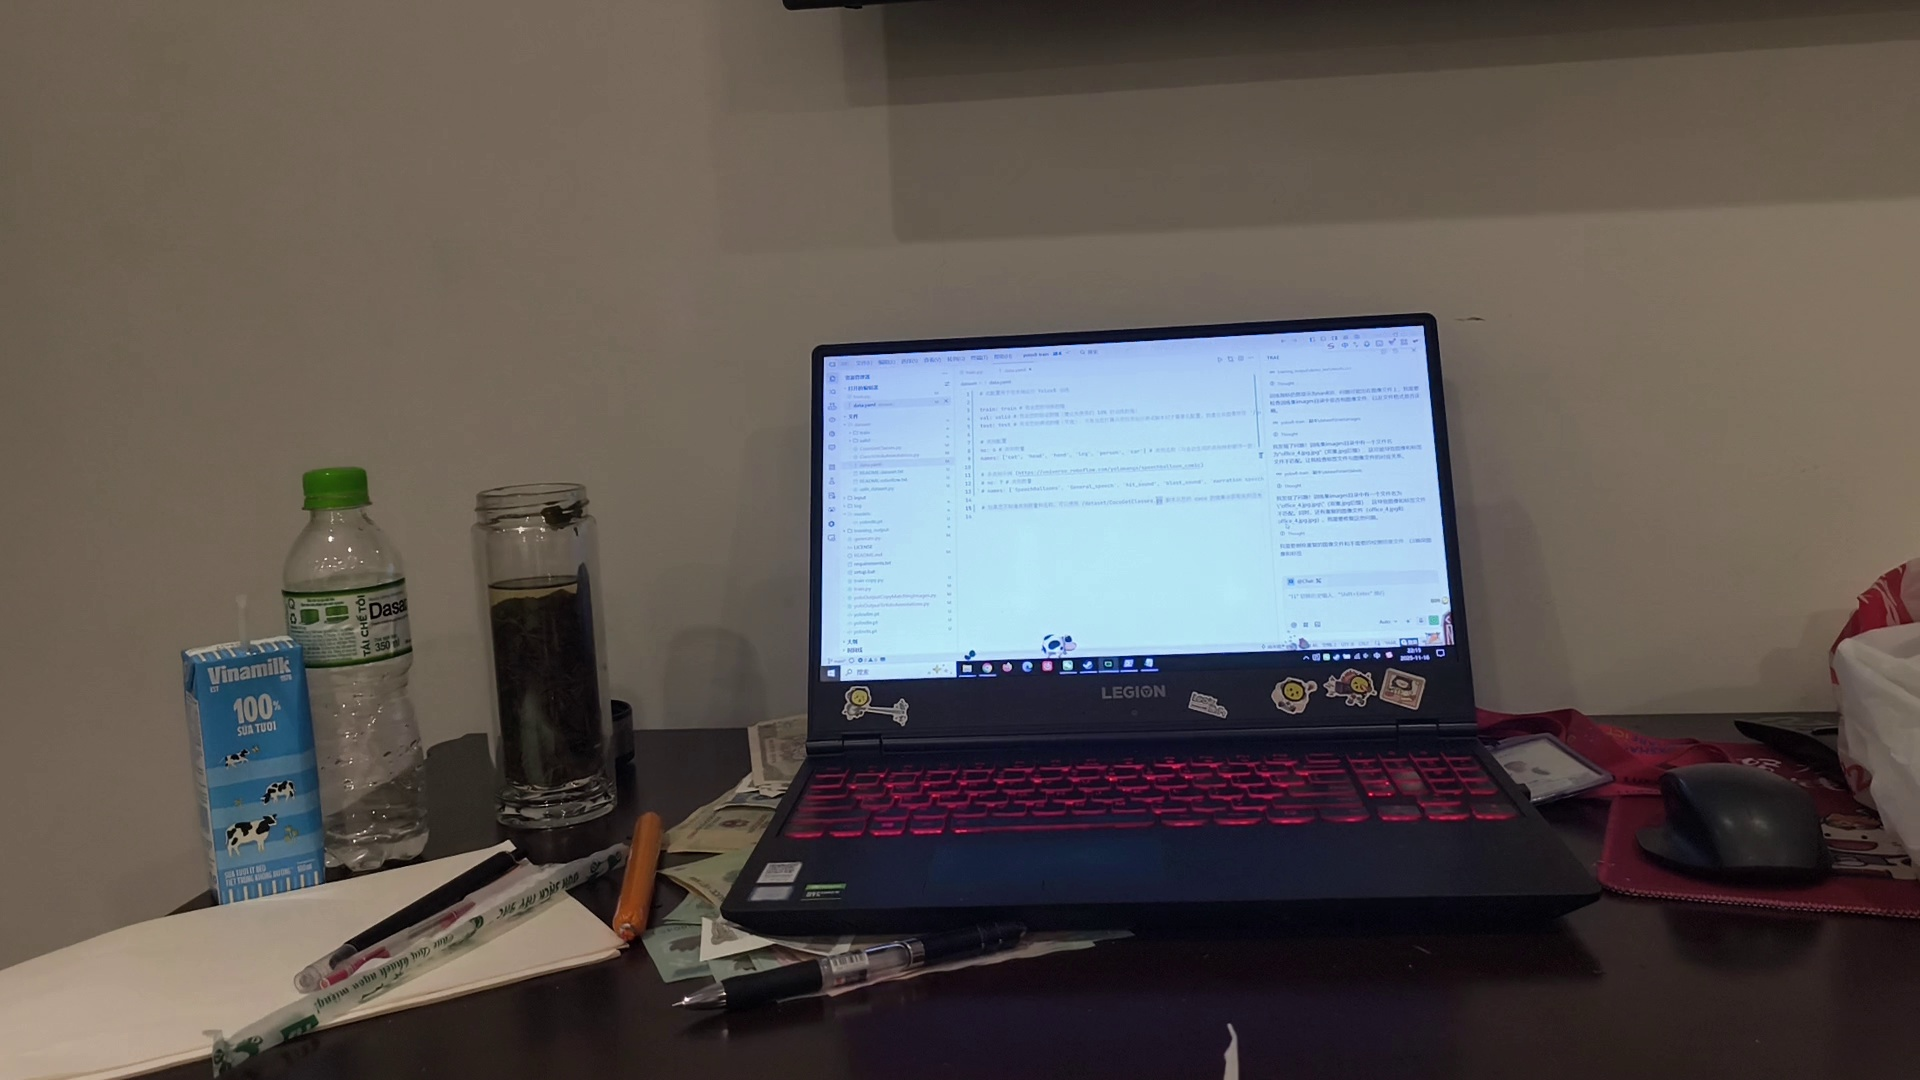bolibei: (475, 465, 605, 812)
bottle: (298, 472, 415, 848)
computer: (815, 327, 1676, 934)
milk: (185, 646, 326, 895)
mouse: (1730, 762, 1894, 907)
pen: (286, 851, 538, 1017), (670, 931, 1035, 1035)
